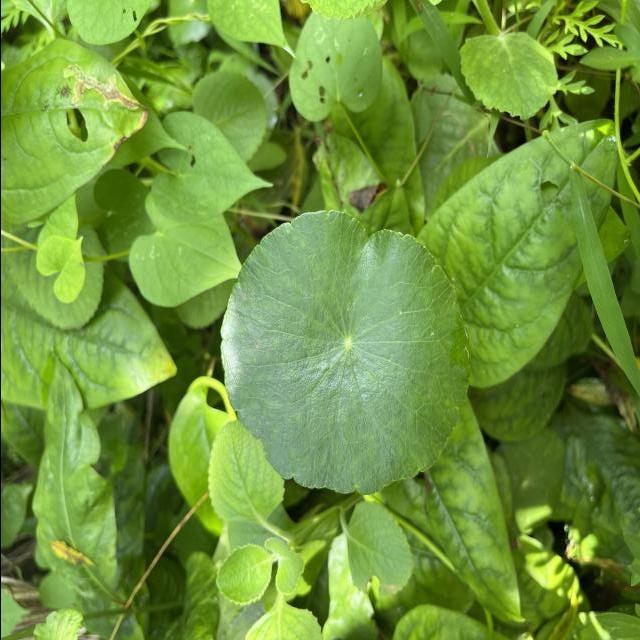Bacopa monnieri: (216, 207, 472, 498)
